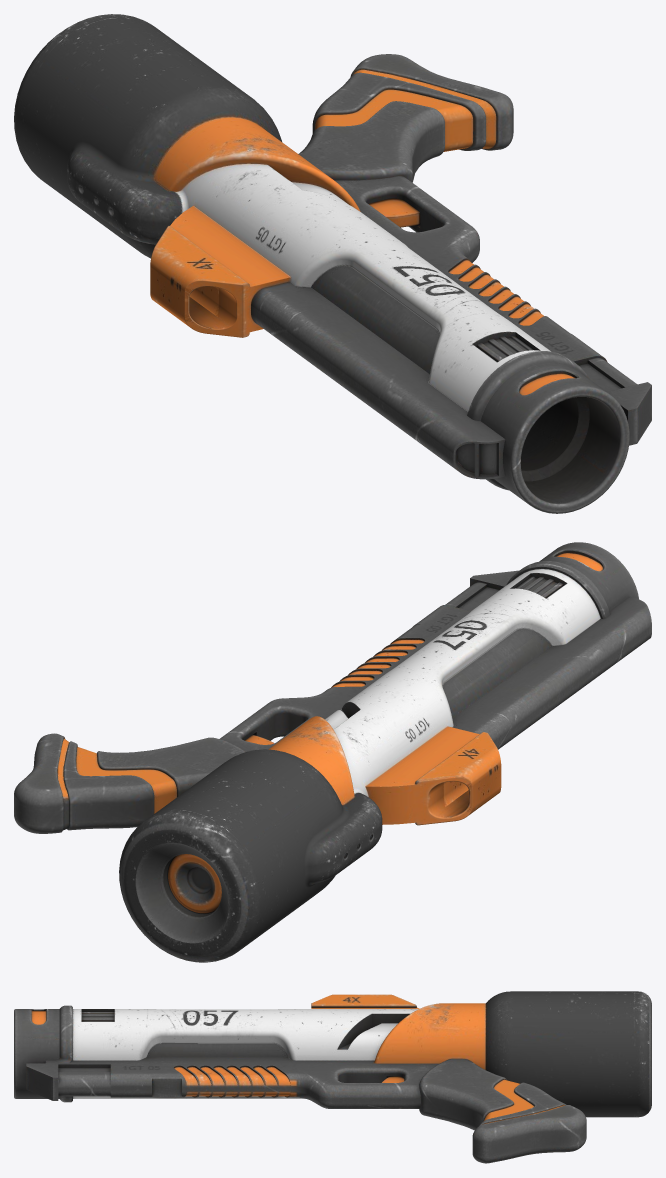
The model's file is ScifiGun.fbx.
The picture shows the model from 3 angles, top to bottom: view 1: azimuth 30°, elevation 25°; view 2: azimuth 150°, elevation 25°; view 3: azimuth 270°, elevation 25°; orthographic projection. The views are drawn at different scales.
Visible parts, largest first — view 1: gun_mesh, trigger_mesh; view 2: gun_mesh; view 3: gun_mesh.
Part boxes in pixels (x1,y1,x2,y2): gun_mesh: [14, 14, 651, 513]; trigger_mesh: [369, 198, 420, 227]; gun_mesh: [14, 542, 651, 962]; gun_mesh: [14, 991, 651, 1163].
Size of the model in its own units: 0.3902 by 0.1472 by 0.7467.
Materials: 1 (1 with a texture image).
